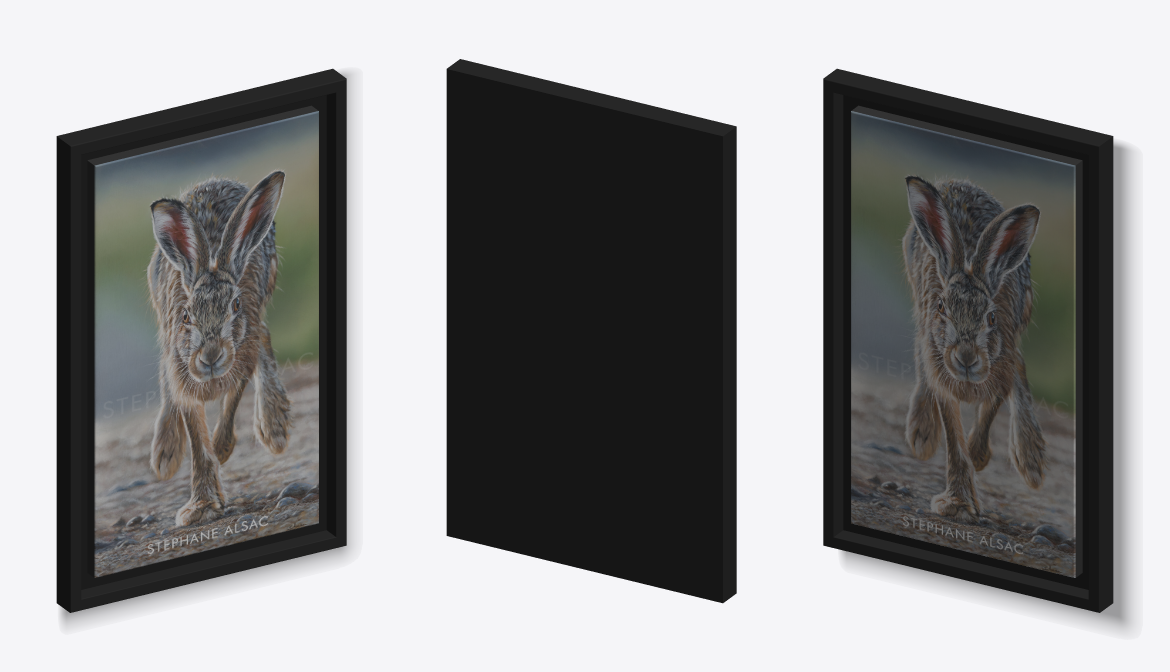
File: tableau-peinture-lievre-course-classique-2a0de082.glb
The picture shows the model from 3 angles, left to right: view 1: azimuth 30°, elevation 25°; view 2: azimuth 150°, elevation 25°; view 3: azimuth 330°, elevation 25°; orthographic projection.
Visible parts, largest first — view 1: Painting; view 2: Painting; view 3: Painting.
Boxes of the visible parts, left/top/right/bottom form: Painting: left=56, top=68, right=350, bottom=623; Painting: left=446, top=59, right=736, bottom=603; Painting: left=823, top=68, right=1130, bottom=627.
Size of the model in its own units: 0.596 by 0.876 by 0.04.
5 materials, 3 textured.
